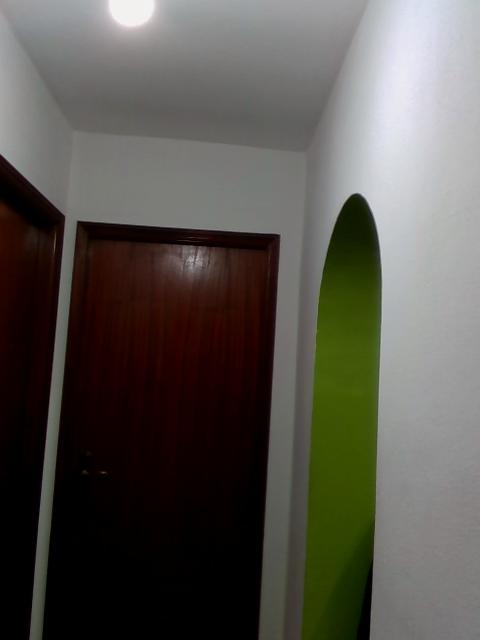closed_door: (44, 220, 276, 638)
